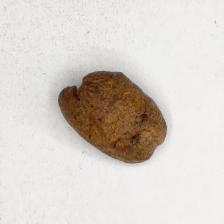NG: (60, 67, 119, 102), (126, 110, 152, 149)
